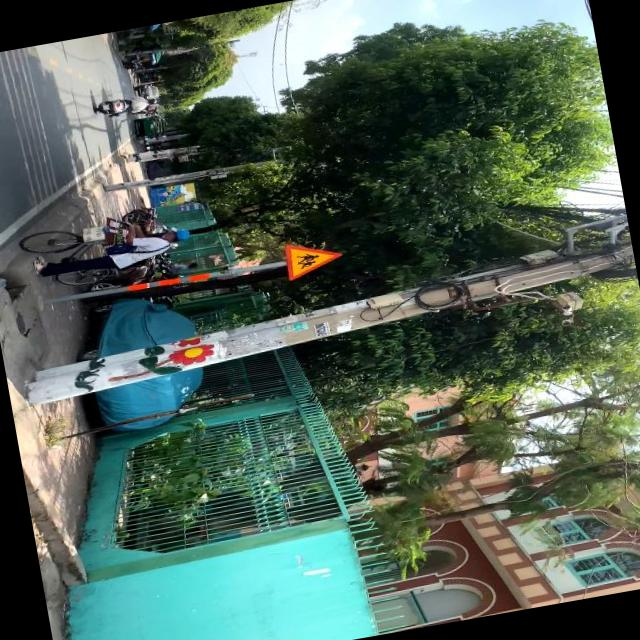W-225: (279, 234, 348, 282)
